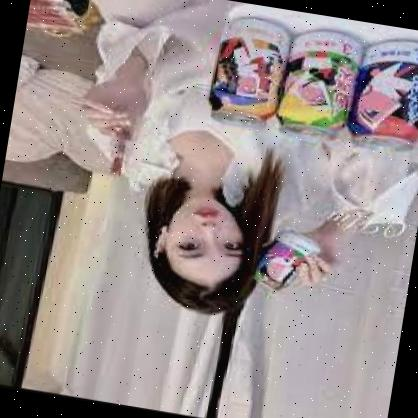can: (204, 14, 292, 140), (278, 26, 364, 148), (346, 34, 418, 157)
